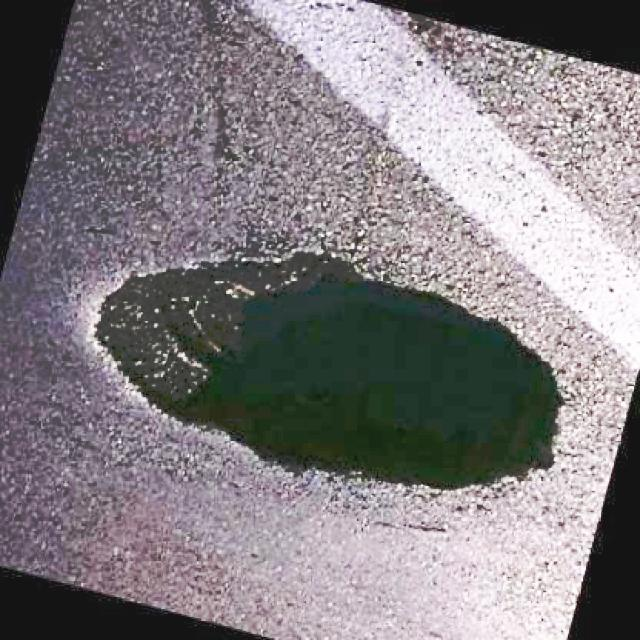pothole: (86, 240, 563, 488)
